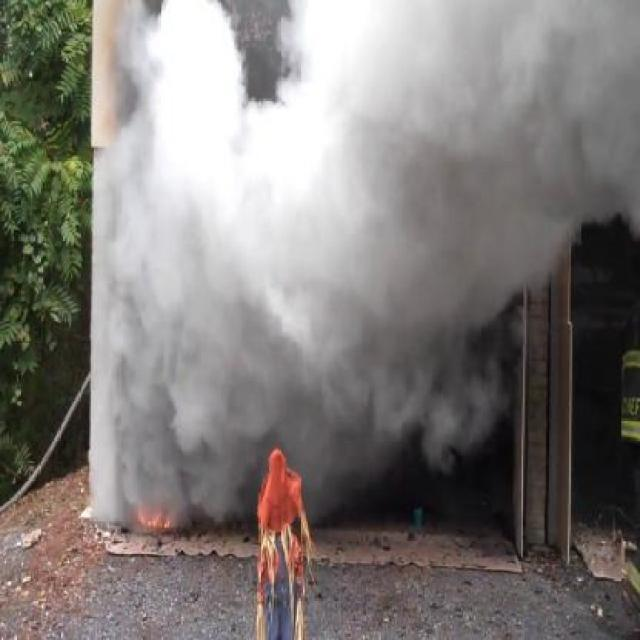smoke: (95, 36, 577, 518)
